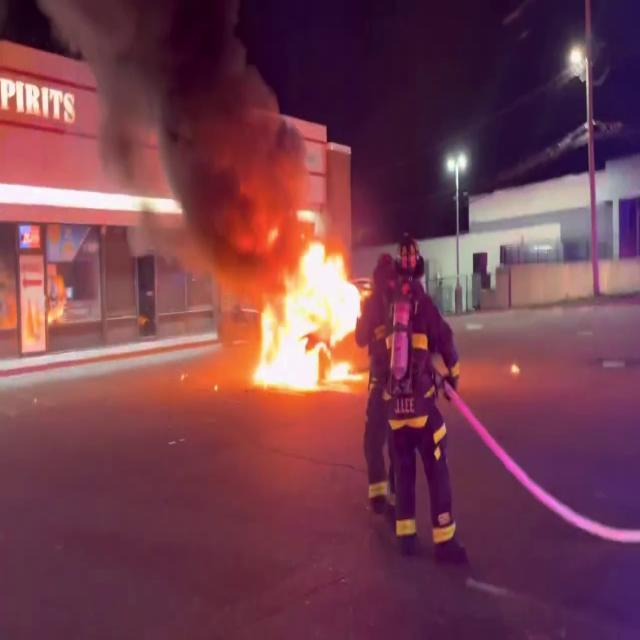Fire: (244, 219, 374, 393)
Smoke: (64, 0, 305, 228)
